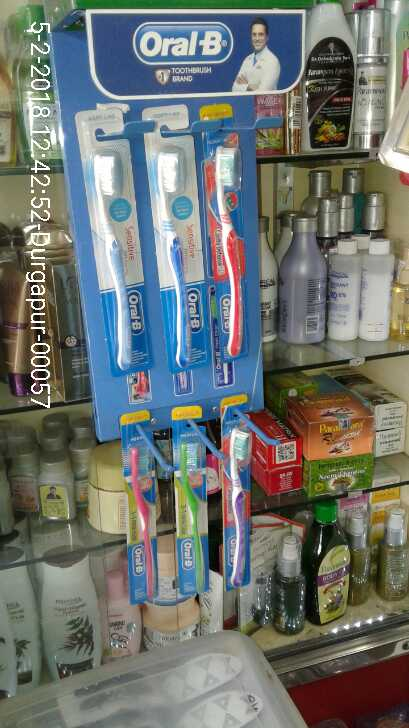oralb: (87, 142, 150, 373), (152, 144, 202, 373), (205, 134, 254, 357), (130, 429, 171, 604), (176, 430, 212, 597), (227, 418, 257, 587)
